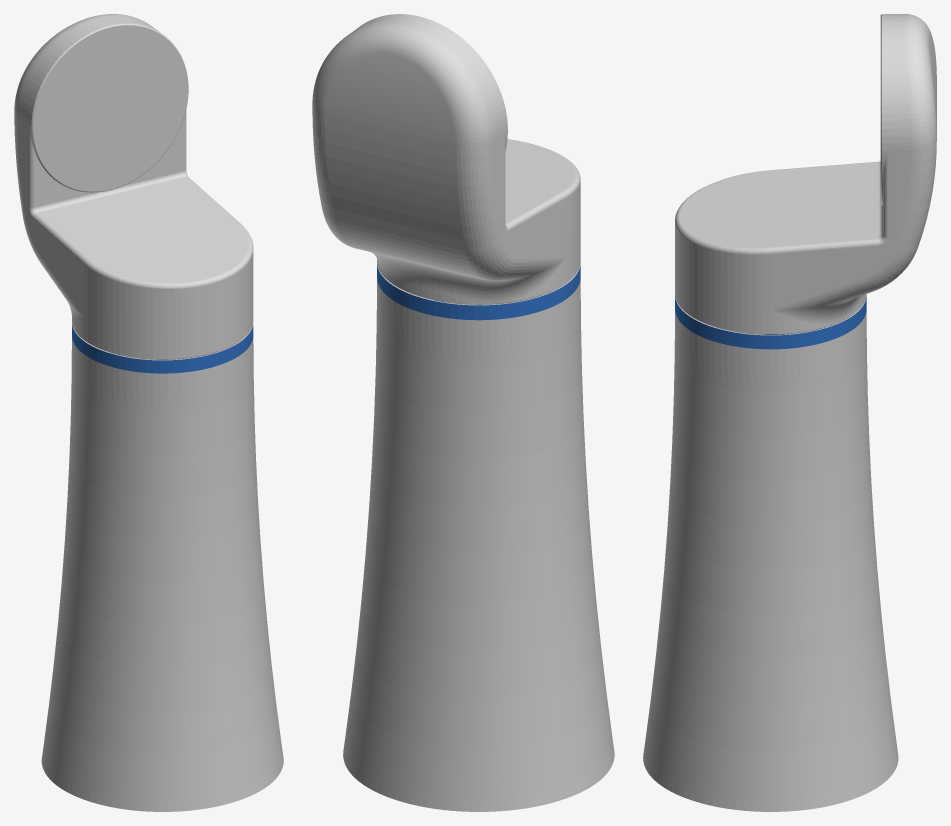
Rendered from link4_fixed_axis.dae.
3 renders of one model, left to right at view 1: azimuth 30°, elevation 25°; view 2: azimuth 150°, elevation 25°; view 3: azimuth 270°, elevation 25°, orthographic. The views are drawn at different scales.
Visible parts, largest first — view 1: Link4; view 2: Link4; view 3: Link4.
Boxes of the visible parts, x1,y1,x2,y2 form: Link4: (14, 14, 283, 811); Link4: (312, 14, 614, 811); Link4: (643, 14, 936, 811).
Bounding box in the file's own units: 0.1 × 0.115 × 0.3175.
